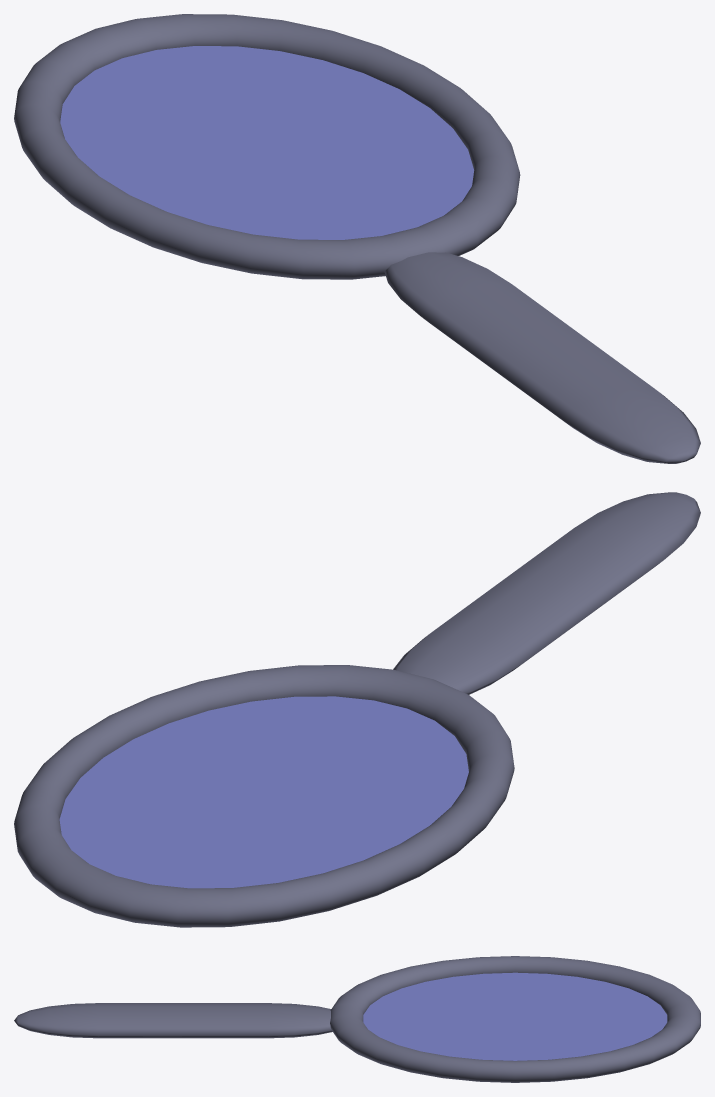
Rendered from hand_mirror.glb.
The picture shows the model from 3 angles, top to bottom: view 1: azimuth 30°, elevation 25°; view 2: azimuth 150°, elevation 25°; view 3: azimuth 270°, elevation 25°; orthographic projection. The views are drawn at different scales.
Parts seen in each view (by area): view 1: mirror, frame, handle; view 2: mirror, frame, handle; view 3: mirror, frame, handle.
Boxes of the visible parts, x1,y1,x2,y2 form: mirror: (60, 46, 474, 239); frame: (14, 14, 520, 279); handle: (384, 252, 700, 463); mirror: (59, 696, 468, 888); frame: (14, 665, 514, 927); handle: (393, 492, 700, 694); mirror: (363, 972, 667, 1060); frame: (330, 956, 700, 1082); handle: (14, 1003, 332, 1038).
Bounding box in the file's own units: 0.0682 × 0.00589 × 0.1716.
